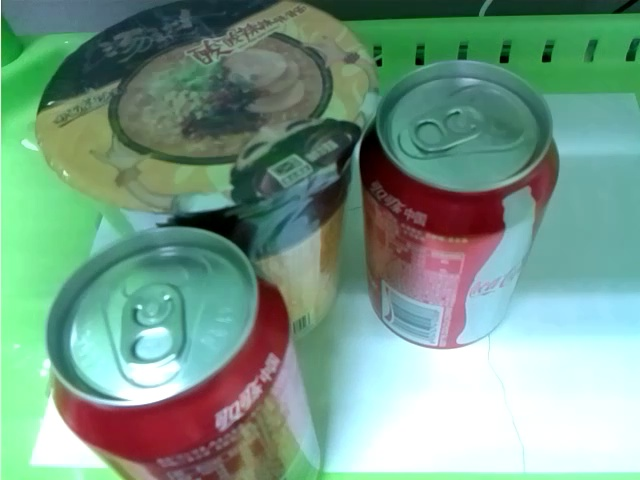cocacola: (41, 222, 324, 480), (355, 57, 562, 351)
noodles: (20, 2, 379, 336)
